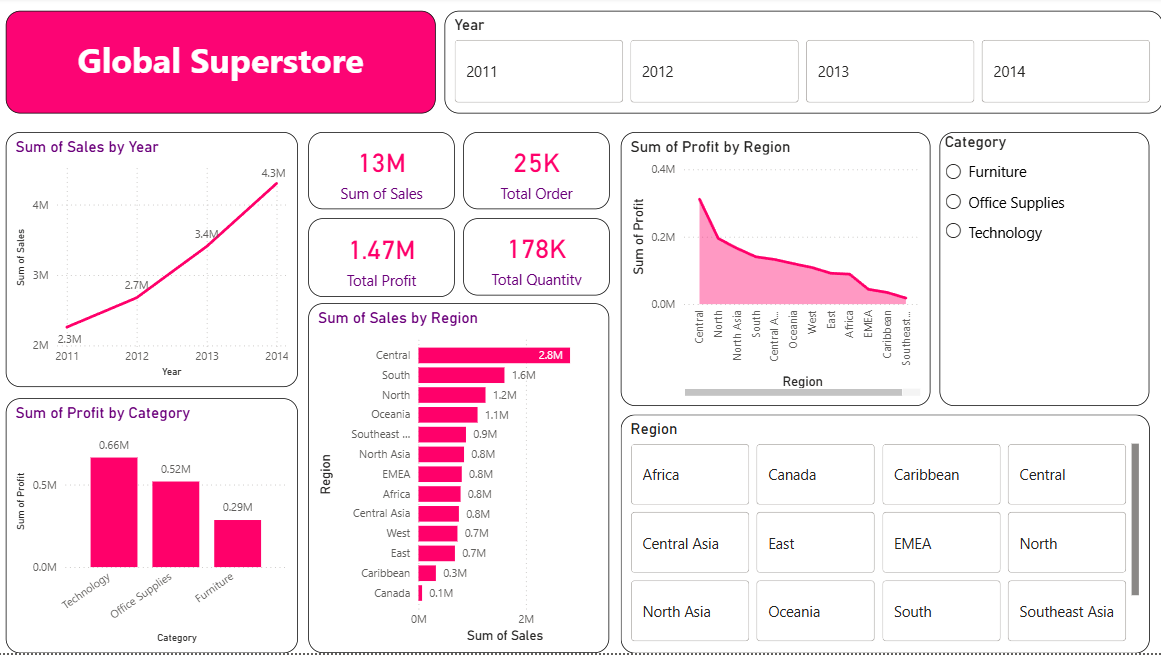

Layout of this report page (visuals, bound fields, positions):
{"tool":"powerbi","page":{"name":"Page 1","canvas":[1280,720],"ordinal":0},"visuals":[{"type":"lineChart","fields":{"Category":["superstore.Order.Date.Variation.Date Hierarchy.Year","superstore.Order.Date.Variation.Date Hierarchy.Quarter","superstore.Order.Date.Variation.Date Hierarchy.Month","superstore.Order.Date.Variation.Date Hierarchy.Day"],"Y":["Sum(superstore.Sales)"]},"box":[9.6,148.2,321.1,279.9],"z":0},{"type":"columnChart","fields":{"Category":["superstore.Category"],"Y":["Sum(superstore.Profit)"]},"box":[9.6,440.5,321.1,279.9],"z":1000},{"type":"barChart","fields":{"Category":["superstore.Region"],"Y":["Sum(superstore.Sales)"]},"box":[341.7,336.2,330.7,384.2],"z":2000},{"type":"card","fields":{"Values":["Sum(superstore.Sales)"]},"box":[341.7,148.2,160.5,85.1],"z":3000},{"type":"card","fields":{"Values":["superstore.Total Profit"]},"box":[341.7,242.9,160.5,86.4],"z":4000},{"type":"card","fields":{"Values":["superstore.Total Order"]},"box":[511.8,148.2,160.5,85.1],"z":5000},{"type":"card","fields":{"Values":["superstore.Total Quantity"]},"box":[511.8,242.9,160.5,85.1],"z":6000},{"type":"stackedAreaChart","fields":{"Y":["Sum(superstore.Profit)"],"Category":["superstore.Region"]},"box":[684.7,148.2,340.3,300.5],"z":7000},{"type":"advancedSlicerVisual","fields":{"Values":["superstore.Year"]},"box":[491.3,15.1,789,112.5],"z":8000},{"type":"listSlicer","fields":{"Values":["superstore.Category"]},"box":[1034.7,148.2,230.5,300.5],"z":9000},{"type":"advancedSlicerVisual","fields":{"Values":["superstore.Region"]},"box":[684.7,458.3,580.4,262.1],"z":10000},{"type":"textbox","box":[9.6,15.1,472,112.5],"z":11000}]}

Visuals, with their boxes in screenshot pixels (x1, y1, x2, y2), scaled from the page's 1280x720 canvas onto the 1161x662 screenshot:
lineChart - superstore.Order.Date.Variation.Date Hierarchy.Year x superstore.Order.Date.Variation.Date Hierarchy.Quarter: bbox=[9, 136, 300, 394]
columnChart - superstore.Category x Sum(superstore.Profit): bbox=[9, 405, 300, 661]
barChart - superstore.Region x Sum(superstore.Sales): bbox=[310, 309, 610, 661]
card - Sum(superstore.Sales): bbox=[310, 136, 456, 215]
card - superstore.Total Profit: bbox=[310, 223, 456, 303]
card - superstore.Total Order: bbox=[464, 136, 610, 215]
card - superstore.Total Quantity: bbox=[464, 223, 610, 302]
stackedAreaChart - Sum(superstore.Profit) x superstore.Region: bbox=[621, 136, 930, 413]
advancedSlicerVisual - superstore.Year: bbox=[446, 14, 1160, 117]
listSlicer - superstore.Category: bbox=[939, 136, 1148, 413]
advancedSlicerVisual - superstore.Region: bbox=[621, 421, 1147, 661]
textbox: bbox=[9, 14, 437, 117]
